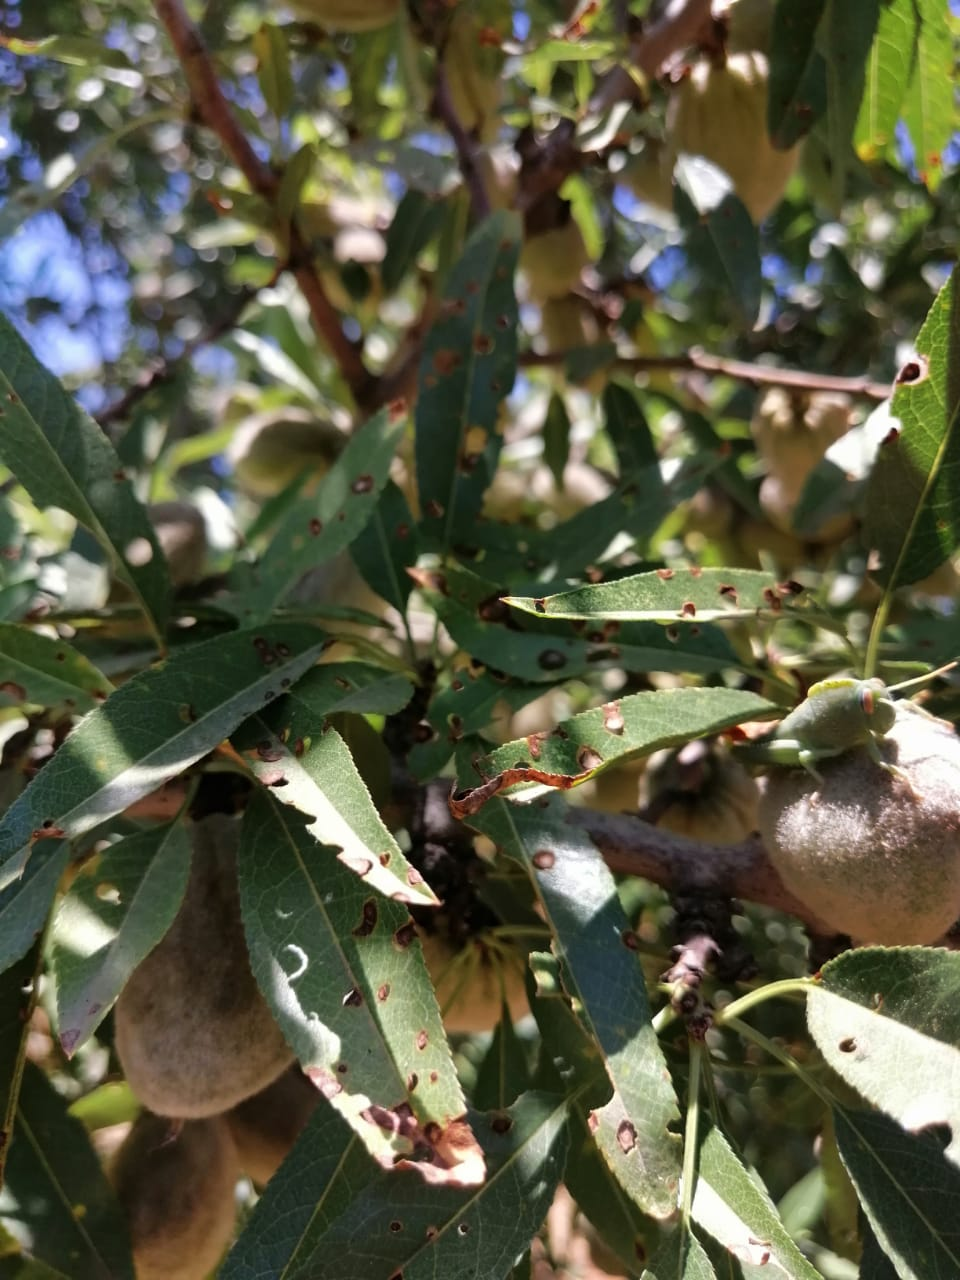coryneum: (457, 734, 686, 1219), (236, 776, 491, 1187), (1, 622, 336, 852), (449, 685, 786, 821), (471, 565, 853, 658)
